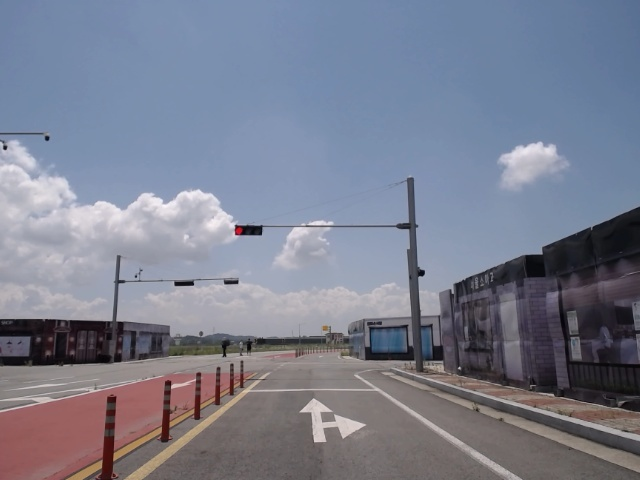red_3: (234, 224, 264, 236)
